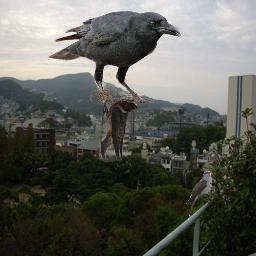Crow: (48, 11, 181, 103)
Cuckoo: (186, 171, 212, 221)
Swallow: (99, 98, 138, 162)
